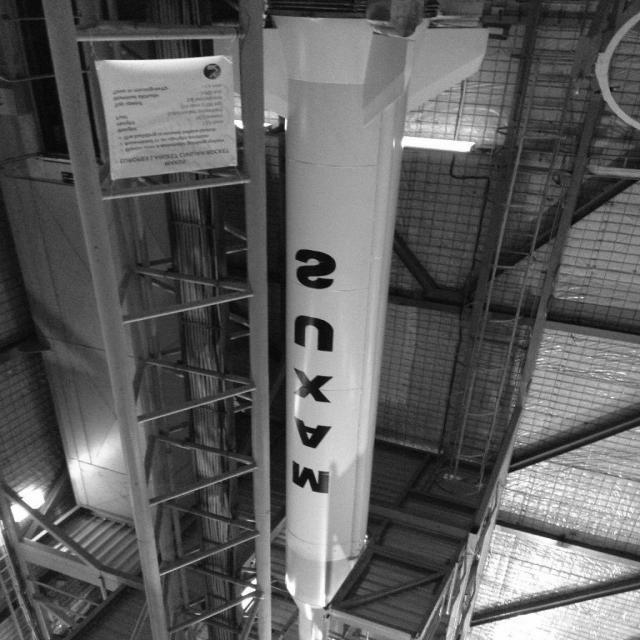missile: (259, 13, 412, 640)
